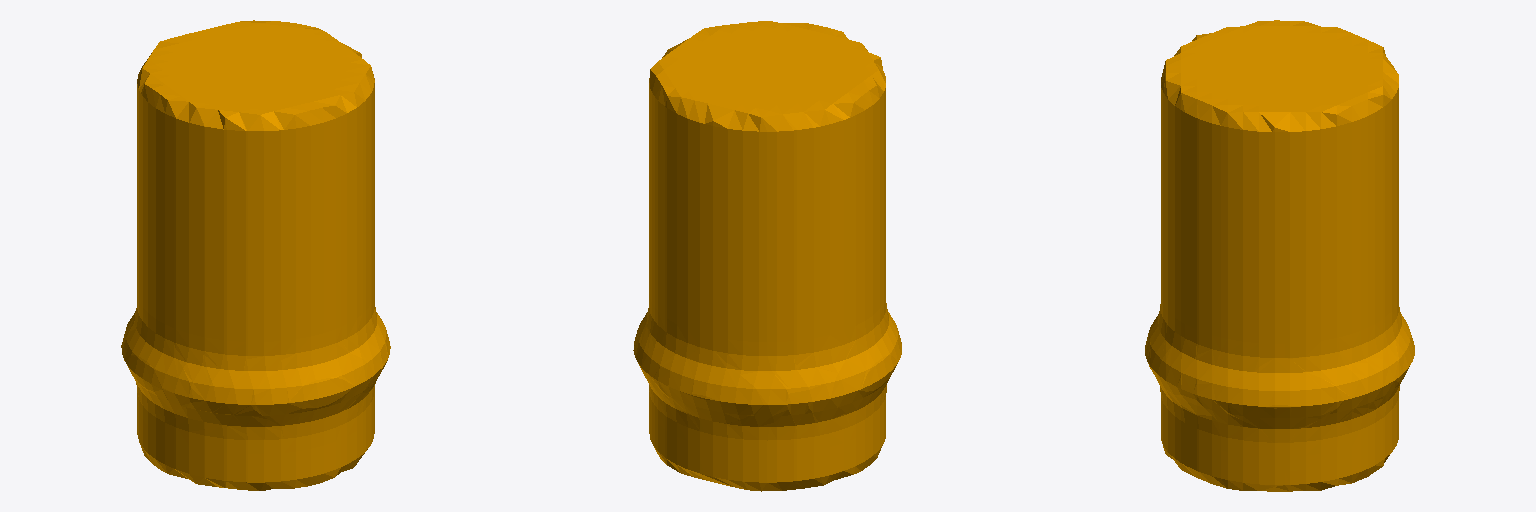
robot.urdf — cylinder_../../meshes/cylinders/cylinder_68.stl:
<?xml version="1.0" encoding="utf-8"?>  <robot name="cylinder_../../meshes/cylinders/cylinder_68.stl">   <link name="cylinder_../../meshes/cylinders/cylinder_68.stl">     <visual>       <geometry>         <mesh filename="../meshes/cylinders/cylinder_68.stl" scale="1 1 1"/>       </geometry>     </visual>     <collision>       <geometry>         <mesh filename="../meshes/cylinders/cylinder_68.stl" scale="1 1 1"/>       </geometry>     </collision>     <inertial>        <origin         xyz="0 0 0"         rpy="0 0 0" />       <mass value="0.6323210207087342"/>       <origin rpy="0 0 0" xyz="0 0 0"/>       <inertia ixx="0.001173702208325334" ixy="-2.306737109215379e-09" ixz="-5.037823826822876e-08" iyy="0.0011736981345648958" iyz="-4.8331165615992946e-08" izz="0.00047559718865947966"/>     </inertial>   </link>  </robot>

--- Render facts (derived) ---
3 views of the same robot in one strip: view 1: azimuth 30°, elevation 25°; view 2: azimuth 150°, elevation 25°; view 3: azimuth 270°, elevation 25° (orthographic).
Robot: cylinder_../../meshes/cylinders/cylinder_68.stl — 1 links, 0 joints (none); root link cylinder_../../meshes/cylinders/cylinder_68.stl; default pose: all joints at 0.
Visible links, largest first — view 1: cylinder_../../meshes/cylinders/cylinder_68.stl; view 2: cylinder_../../meshes/cylinders/cylinder_68.stl; view 3: cylinder_../../meshes/cylinders/cylinder_68.stl.
Link boxes in pixels (x1,y1,x2,y2): cylinder_../../meshes/cylinders/cylinder_68.stl: [121, 20, 390, 490]; cylinder_../../meshes/cylinders/cylinder_68.stl: [633, 21, 901, 491]; cylinder_../../meshes/cylinders/cylinder_68.stl: [1145, 20, 1414, 491].
Bounding box of the posed robot: 0.0869 × 0.0869 × 0.1345 m (x, y, z).
1 mesh visuals loaded from 1 distinct referenced files (1 binary STL).